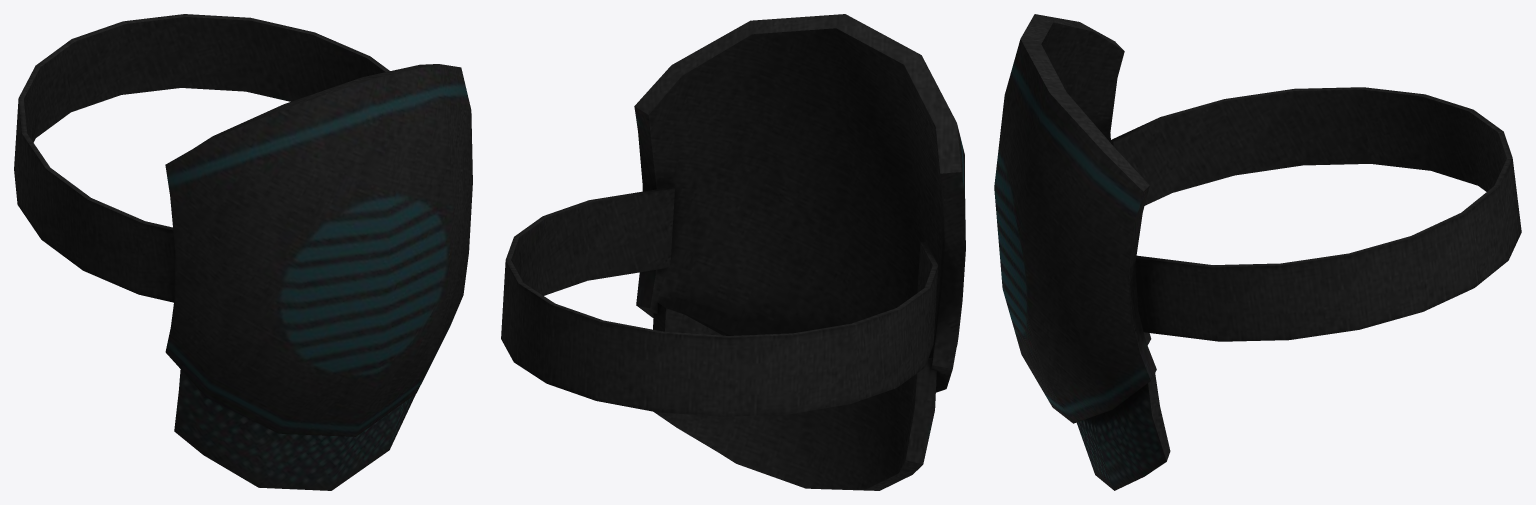
The picture shows the model from 3 angles, left to right: view 1: azimuth 30°, elevation 25°; view 2: azimuth 150°, elevation 25°; view 3: azimuth 270°, elevation 25°; orthographic projection.
Parts seen in each view (by area): view 1: ankle_belt_L; view 2: ankle_belt_L; view 3: ankle_belt_L.
Boxes of the visible parts, box(x1,y1,x2,y2) form: ankle_belt_L: box(14, 14, 472, 490); ankle_belt_L: box(501, 14, 965, 490); ankle_belt_L: box(994, 14, 1521, 490).
Size of the model in its own units: 17.44 by 20.33 by 22.15.
1 material, 1 textured.
